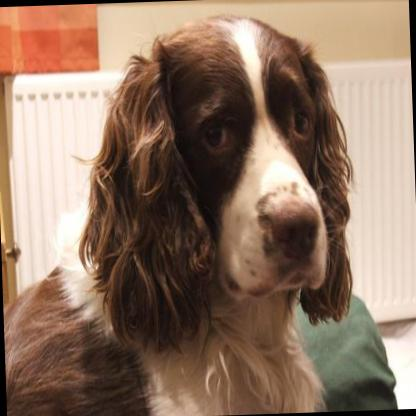English_springer: (0, 11, 359, 416)
